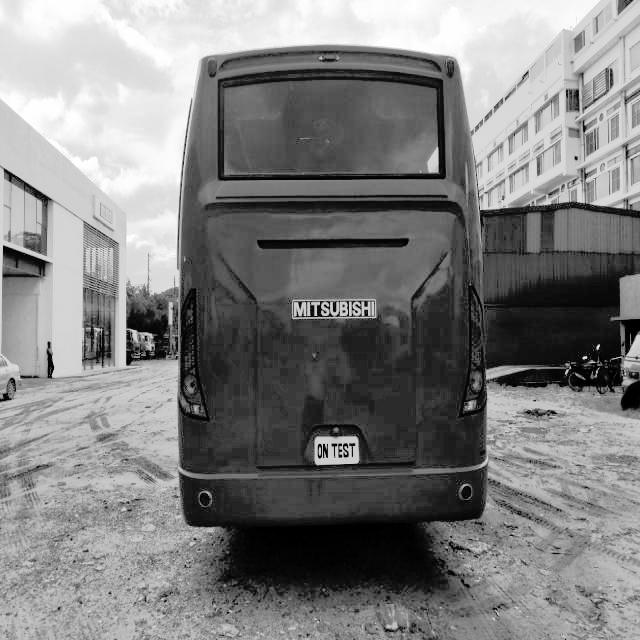Bus: (134, 17, 518, 559)
